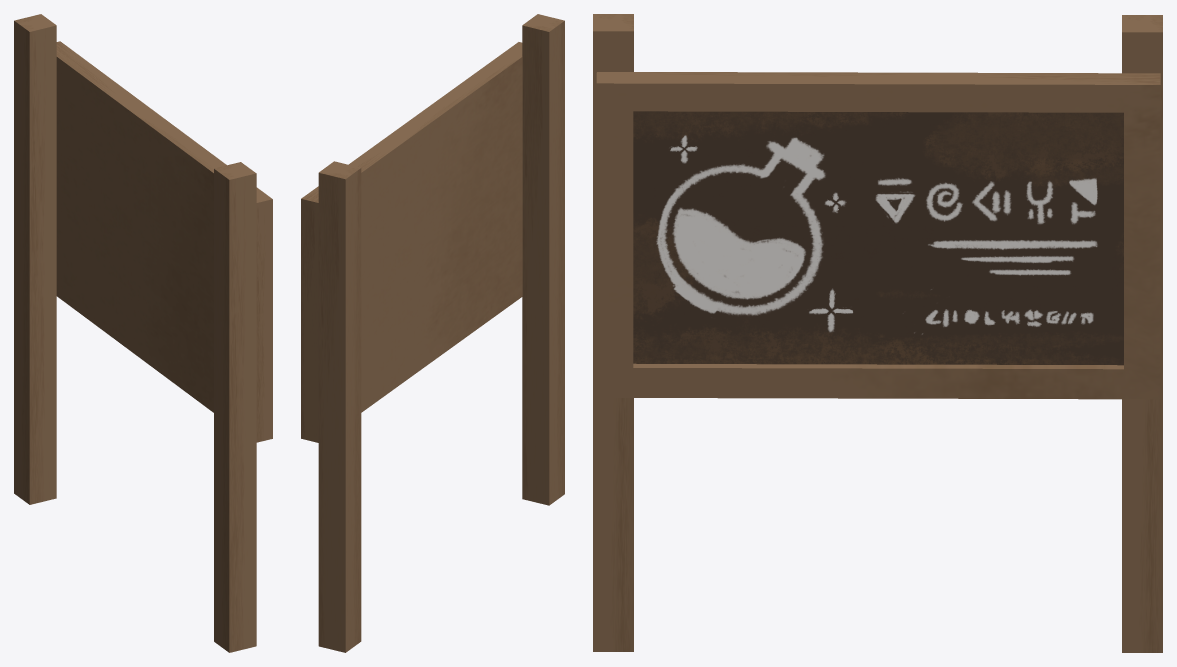
The model's file is (bottom).fbx.
3 views of the same model, side by side, from view 1: azimuth 30°, elevation 25°; view 2: azimuth 150°, elevation 25°; view 3: azimuth 270°, elevation 25° (orthographic). The views are drawn at different scales.
Parts seen in each view (by area): view 1: Cube.150; view 2: Cube.150; view 3: Cube.150.
Part boxes in pixels (box(x1,y1,x2,y2)): Cube.150: box(14, 14, 272, 652); Cube.150: box(301, 14, 564, 652); Cube.150: box(593, 14, 1162, 652).
Size of the model in its own units: 59.33 by 568 by 473.
Materials: 1 (1 with a texture image).
